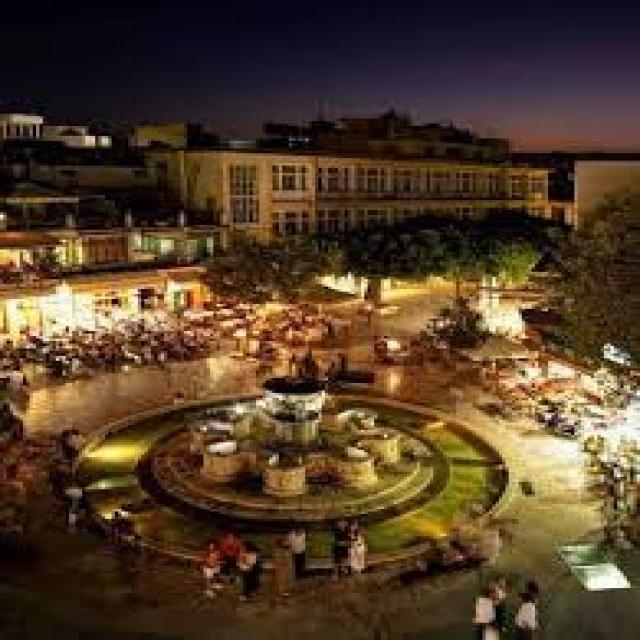Liontaria: (193, 376, 409, 506)
